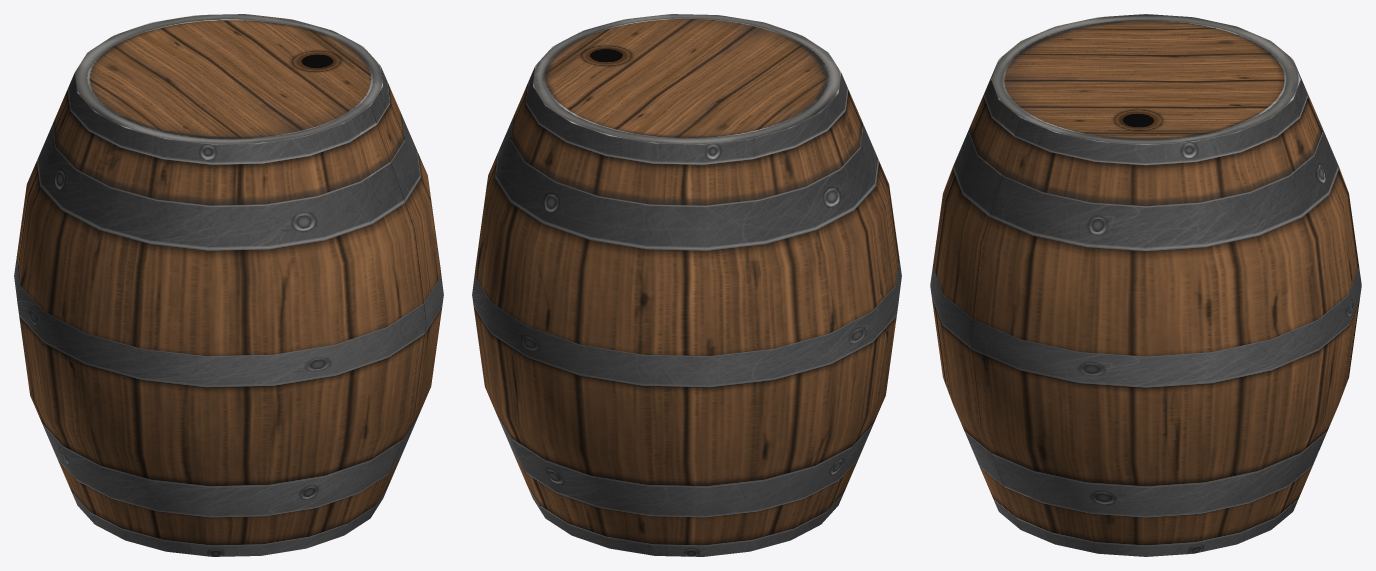
Rendered from barrel_1.fbx.
3 views of the same model, side by side, from view 1: azimuth 30°, elevation 25°; view 2: azimuth 150°, elevation 25°; view 3: azimuth 270°, elevation 25° (orthographic).
Visible parts, largest first — view 1: pCylinder1; view 2: pCylinder1; view 3: pCylinder1.
Part boxes in pixels (bbox=[...]): pCylinder1: bbox=[14, 14, 443, 556]; pCylinder1: bbox=[472, 14, 901, 556]; pCylinder1: bbox=[930, 14, 1361, 556].
Bounding box in the file's own units: 186 × 196 × 186.
1 material, 1 textured.
